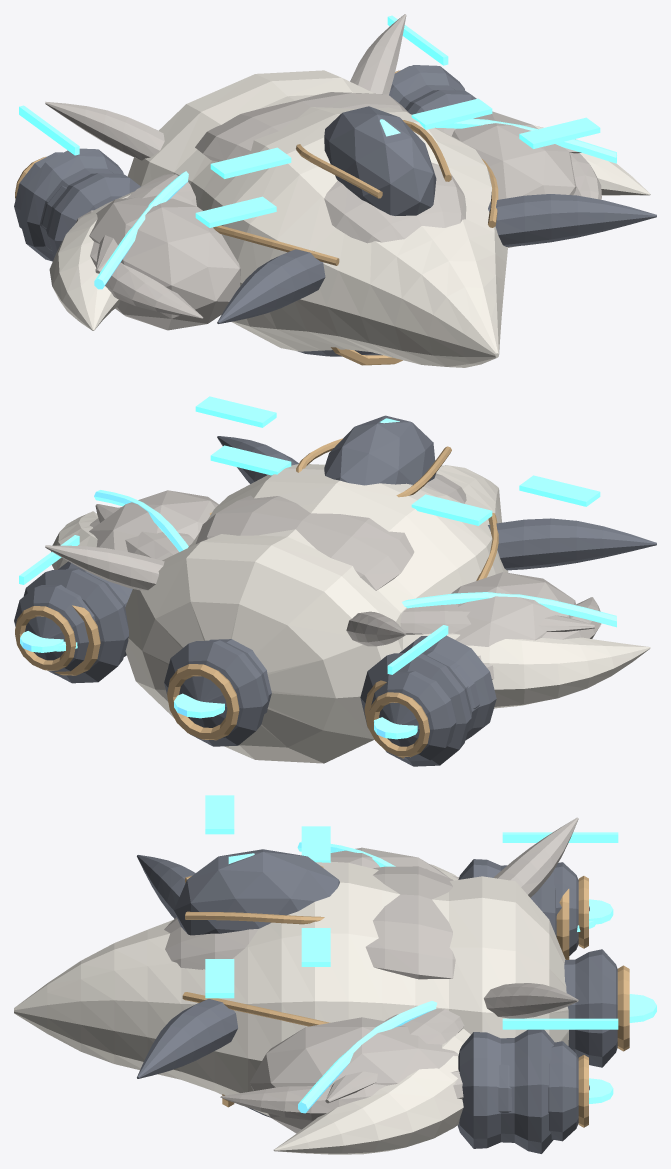
The model's file is SL_BASTION_HQ.glb.
3 renders of one model, top to bottom at view 1: azimuth 30°, elevation 25°; view 2: azimuth 150°, elevation 25°; view 3: azimuth 270°, elevation 25°, orthographic. The views are drawn at different scales.
Visible parts, largest first — view 1: armor, plate, dark, V59 trim baked, accent, energy; view 2: armor, dark, plate, accent, V59 trim baked, energy; view 3: armor, dark, plate, V59 trim baked, accent, energy.
Boxes of the visible parts, <box> form: armor: <box>49,70,650,367</box>; plate: <box>45,14,601,330</box>; dark: <box>14,65,656,356</box>; V59 trim baked: <box>19,15,600,227</box>; accent: <box>15,70,498,365</box>; energy: <box>94,118,616,289</box>; armor: <box>51,464,650,763</box>; dark: <box>14,415,656,766</box>; plate: <box>45,473,601,708</box>; accent: <box>15,438,498,758</box>; V59 trim baked: <box>19,396,600,674</box>; energy: <box>20,418,616,739</box>; armor: <box>14,861,568,1154</box>; dark: <box>137,849,617,1153</box>; plate: <box>164,817,578,1133</box>; V59 trim baked: <box>205,795,618,1029</box>; accent: <box>182,865,629,1127</box>; energy: <box>228,841,656,1113</box>.
Bounding box in the file's own units: 5.39 × 2.34 × 5.19.
